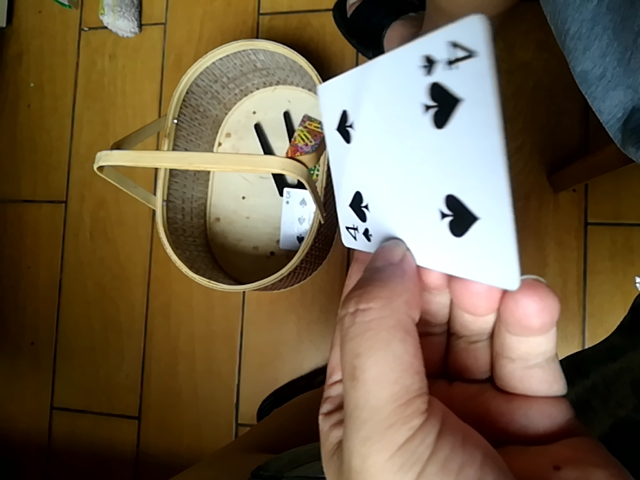ht 4: (308, 14, 528, 293)
